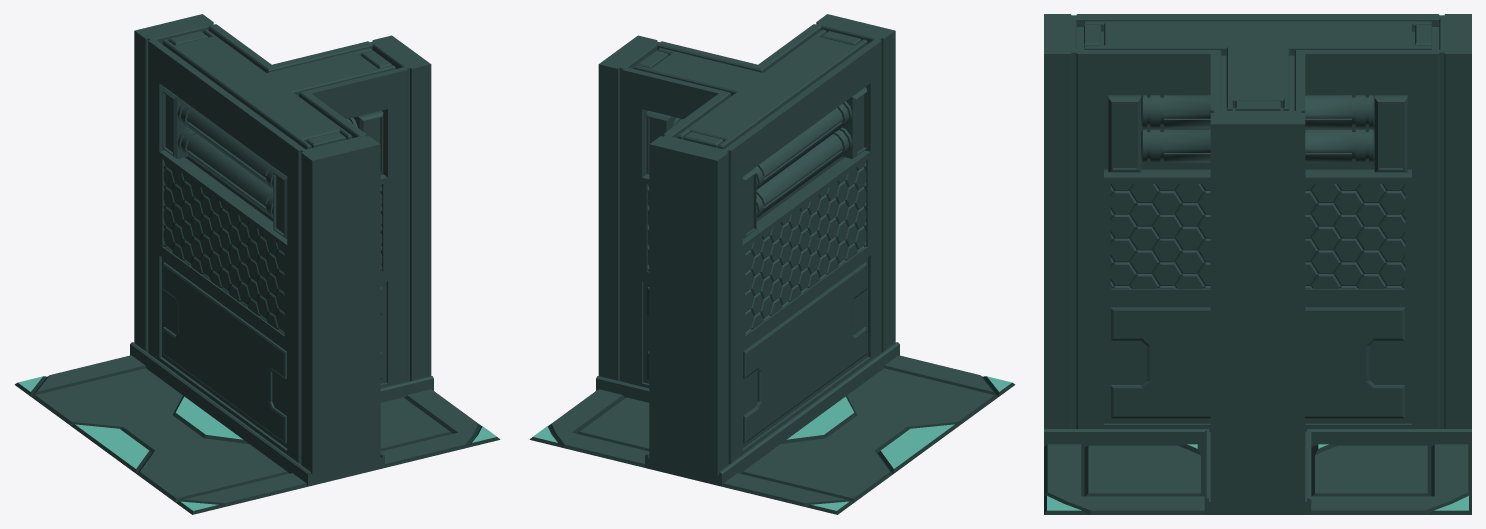
File: Walls_3Way_Var01.fbx
3 views of the same model, side by side, from view 1: azimuth 30°, elevation 25°; view 2: azimuth 150°, elevation 25°; view 3: azimuth 270°, elevation 25° (orthographic). The views are drawn at different scales.
Parts seen in each view (by area): view 1: Walls_3Way_Var01; view 2: Walls_3Way_Var01; view 3: Walls_3Way_Var01.
Part boxes in pixels (<box>): Walls_3Way_Var01: <box>14,14,500,514</box>; Walls_3Way_Var01: <box>529,14,1015,514</box>; Walls_3Way_Var01: <box>1044,14,1471,514</box>.
Bounding box in the file's own units: 600 × 604 × 600.
